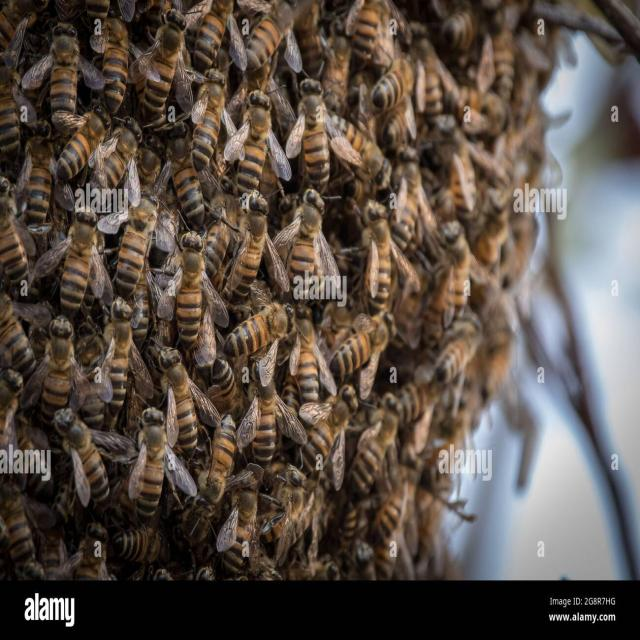Apis-mellifera-scutellata: (126, 382, 205, 518), (22, 12, 102, 139), (217, 291, 307, 396), (173, 228, 236, 374), (152, 341, 222, 460), (232, 71, 288, 216), (50, 404, 121, 506), (131, 2, 192, 120), (171, 216, 224, 339), (179, 73, 242, 173), (53, 204, 108, 313), (292, 65, 337, 192), (245, 0, 318, 78), (44, 306, 88, 431), (0, 168, 40, 301), (91, 14, 142, 118), (346, 56, 428, 117), (345, 0, 410, 74), (121, 198, 154, 328), (66, 112, 120, 190), (94, 113, 147, 190), (188, 0, 248, 66), (235, 193, 269, 298), (19, 133, 53, 228), (330, 453, 330, 453)
